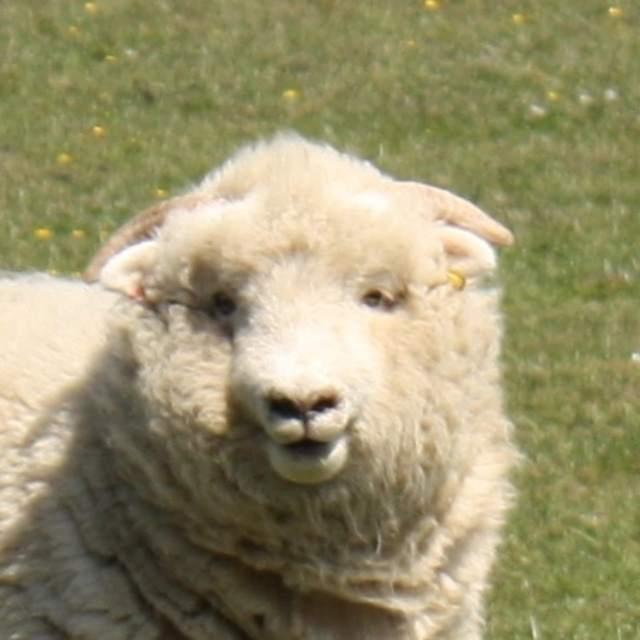Sheep: (0, 130, 520, 639)
